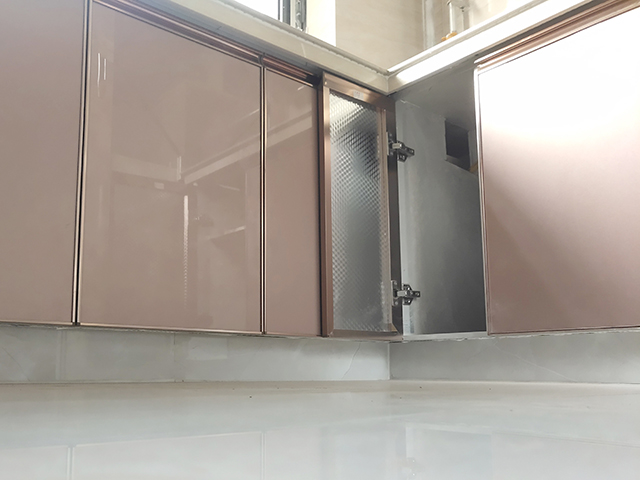cabinet: (1, 1, 399, 386), (396, 1, 640, 384)
